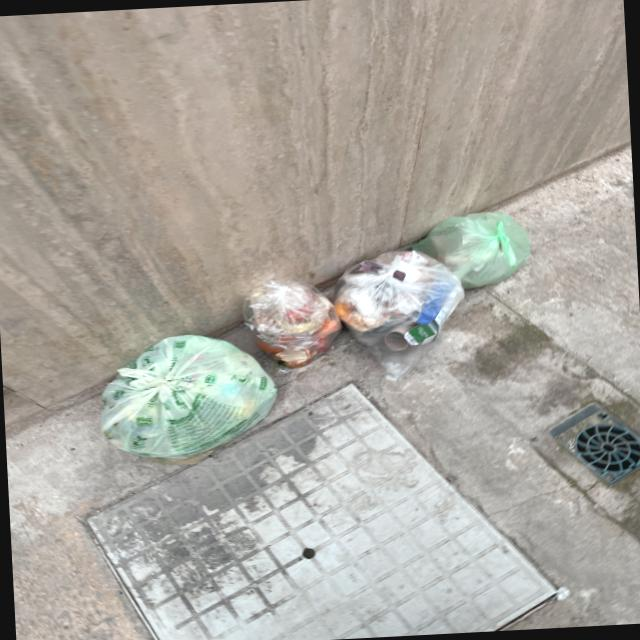white_bag: (106, 333, 276, 475), (328, 246, 473, 360), (406, 208, 544, 295), (238, 271, 354, 366)
